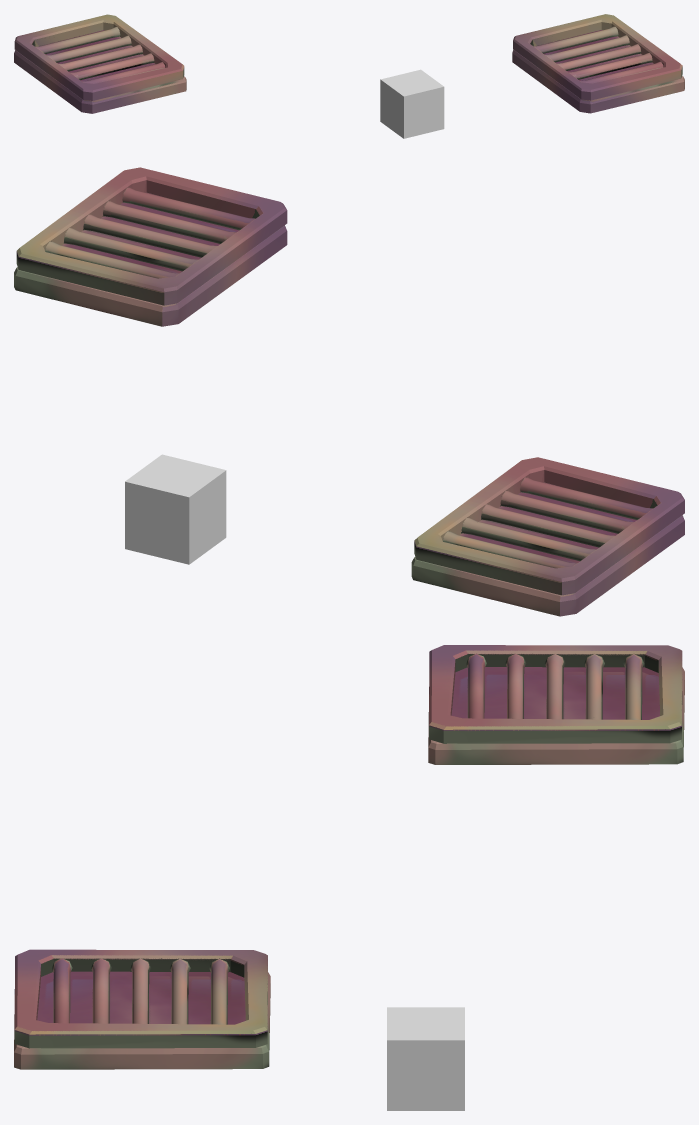
Rendered from trade-floor003.fbx.
The picture shows the model from 3 angles, top to bottom: view 1: azimuth 30°, elevation 25°; view 2: azimuth 150°, elevation 25°; view 3: azimuth 270°, elevation 25°; orthographic projection. The views are drawn at different scales.
Parts seen in each view (by area): view 1: Cylinder.007, Cylinder.005, trade-floor003; view 2: Cylinder.005, Cylinder.007, trade-floor003; view 3: Cylinder.005, Cylinder.007, trade-floor003.
Boxes of the visible parts, left/top/right/bottom form: Cylinder.007: left=14, top=14, right=186, bottom=113; Cylinder.005: left=512, top=14, right=684, bottom=113; trade-floor003: left=380, top=69, right=444, bottom=138; Cylinder.005: left=14, top=167, right=287, bottom=326; Cylinder.007: left=411, top=457, right=684, bottom=616; trade-floor003: left=125, top=454, right=226, bottom=564; Cylinder.005: left=14, top=949, right=270, bottom=1069; Cylinder.007: left=428, top=645, right=684, bottom=764; trade-floor003: left=387, top=1007, right=464, bottom=1110.
Bounding box in the file's own units: 919 × 205 × 671.
